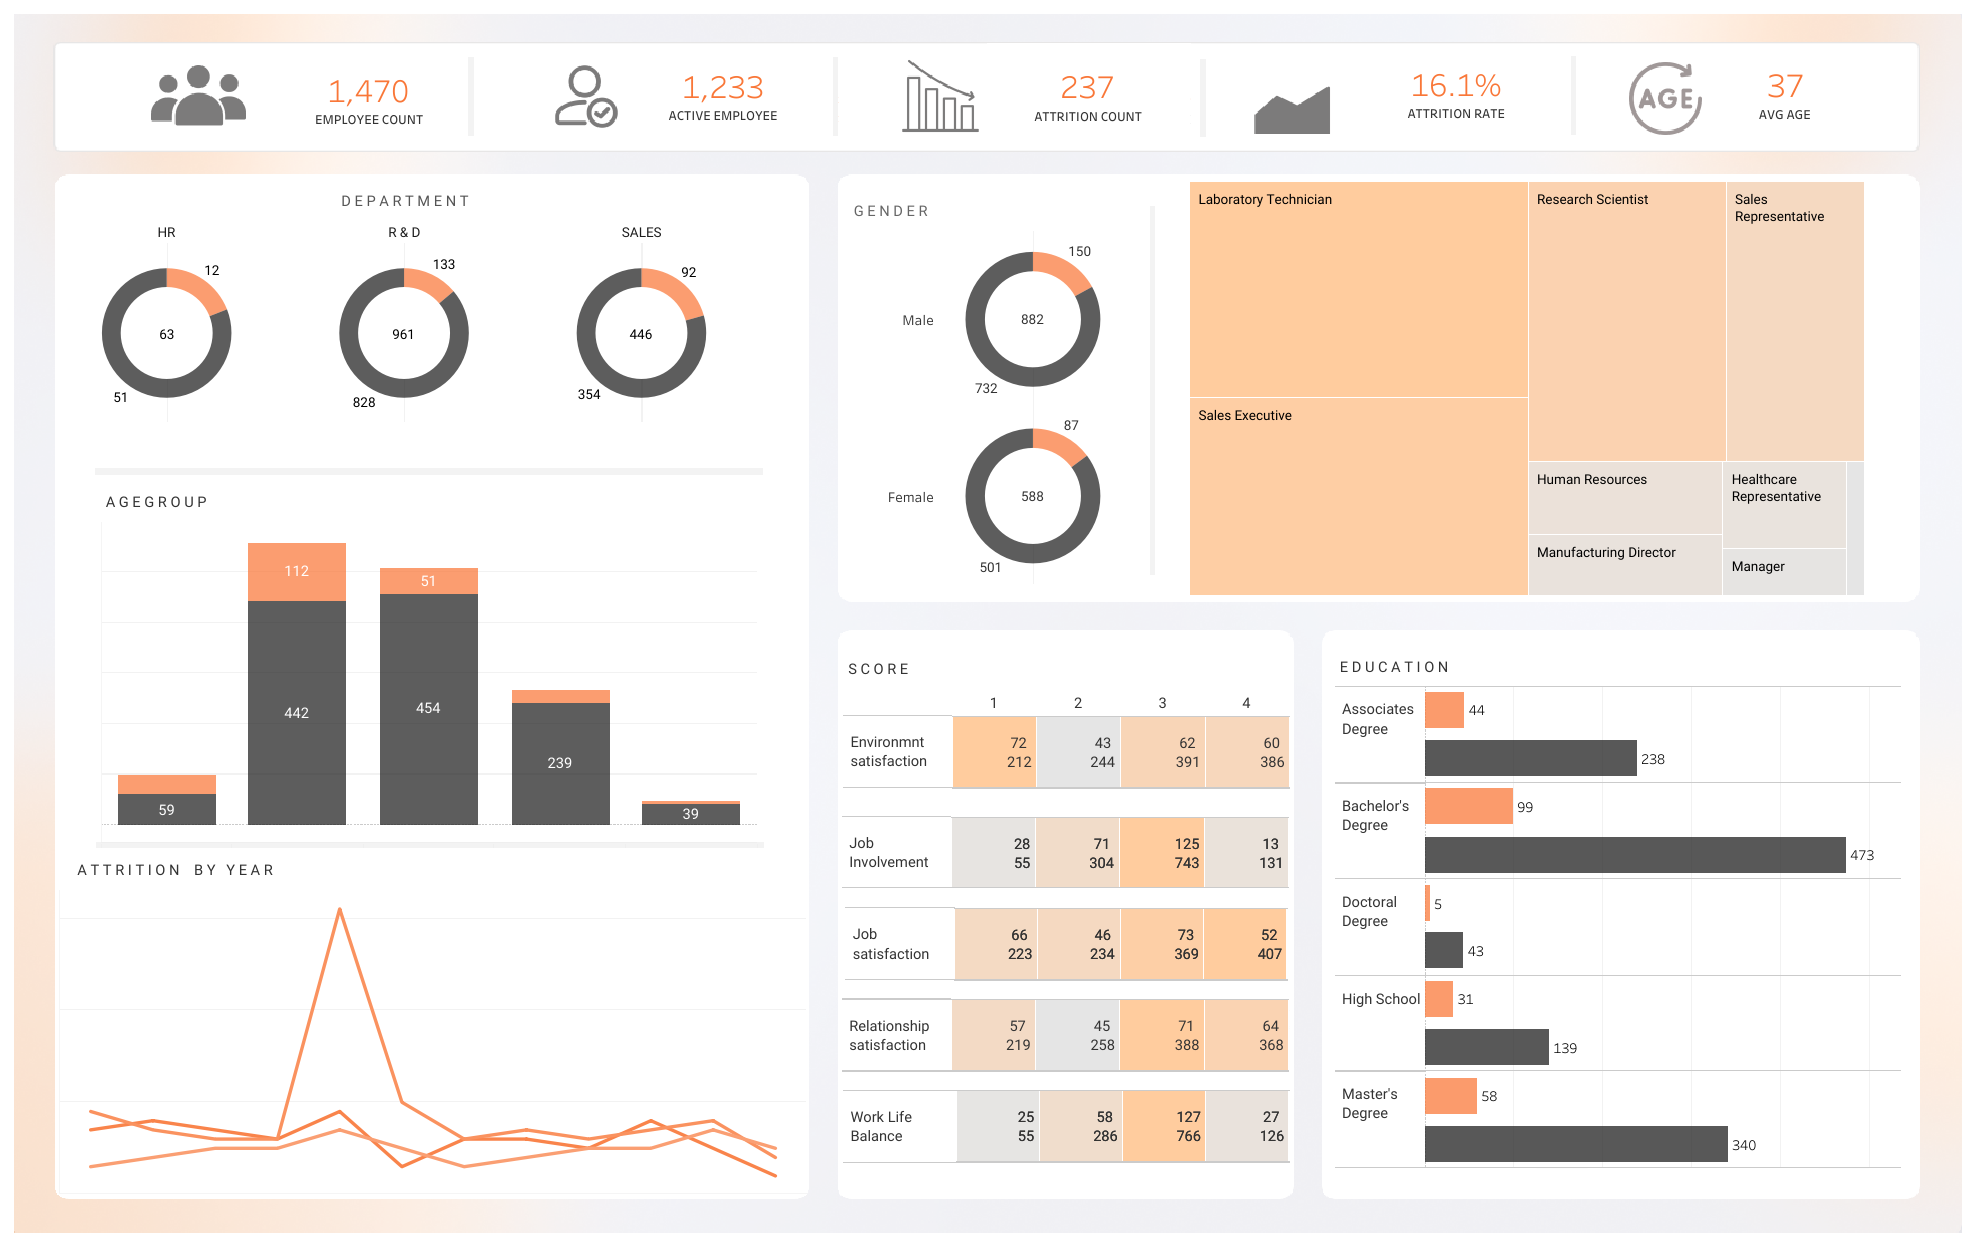

What the dashboard file says about the page in this screenshot:
{"tool":"tableau","page":{"name":"Dashboard 1","canvas":[1757,1118],"ordinal":0},"visuals":[{"type":"image","param":"Image/Dashboard 3.png","box":[8,8,1741,1102]},{"type":"worksheet","title":"Sheet 5","mark":"Automatic","box":[1484,23,206,118]},{"type":"worksheet","title":"Sheet 4","mark":"Automatic","box":[1175,30,240,103]},{"type":"blank","box":[1391,30,20,110]},{"type":"blank","box":[410.6,31,19.9,110]},{"type":"blank","box":[735,31,20,110]},{"type":"blank","box":[1062,32,20,110]},{"type":"worksheet","title":"Sheet 3","mark":"Automatic","box":[877,38,180,91]},{"type":"worksheet","title":"Sheet 2","mark":"Automatic","box":[541,40,203,87]},{"type":"worksheet","title":"Sheet 1","mark":"Automatic","box":[199,46,258,82]},{"type":"image","param":"Image/area.png","box":[1115,49,76,70]},{"type":"image","param":"Image/decrease.png","box":[801,50,85,70]},{"type":"image","param":"Image/active.png","box":[490.1,55,91.8,62]},{"type":"image","param":"Image/age.png","box":[1448,55,69,65]},{"type":"image","param":"Image/emp.png","box":[134.4,58,140,85]},{"type":"worksheet","title":"Sheet 9","mark":"Automatic","box":[1053,114,681,420]},{"type":"blank","box":[1017,163,20,368]},{"type":"worksheet","title":"Sheet 6 ","mark":"Pie","cols":["Department","Employee Count","Employee Count"],"box":[42.6,164,634.9,320]},{"type":"worksheet","title":"Sheet 7","mark":"Pie","rows":["Gender"],"cols":["Employee Count","Employee Count"],"box":[755,173,247,346]},{"type":"blank","box":[84,406,594,25]},{"type":"worksheet","title":"Sheet 8","mark":"Bar","rows":["Employee Count"],"cols":["Age group"],"box":[90,432,583,337]},{"type":"worksheet","title":"Sheet 17","mark":"Bar","rows":["Education Switch Calc","Attrition/Retention"],"cols":["Employee Count"],"box":[1187,578,504,461]},{"type":"worksheet","title":"Sheet 11","mark":"Square","rows":["Calculation_1157425145742860291"],"cols":["Environment Satisfaction"],"box":[750,580,507,271]},{"type":"worksheet","title":"Sheet 12","mark":"Square","rows":["Calculation_1205838842005045254"],"cols":["Job Involvement"],"box":[749,726,532,264]},{"type":"blank","box":[85,738,594,25]},{"type":"worksheet","title":"Sheet 10","mark":"Line","rows":["Attrition Count"],"cols":["Attrtion Year"],"box":[52,759,664,302]},{"type":"worksheet","title":"Sheet 12 (2)","mark":"Square","rows":["Calculation_1205838842006269959"],"cols":["Job Satisfaction"],"box":[752,807,506,184]}]}

Visuals, with their boxes in screenshot pixels (x1, y1, x2, y2), scaled from the page's 1757x1118 canvas onto the 1976x1257 screenshot:
image: <box>9,9,1967,1248</box>
"Sheet 5" worksheet: <box>1669,26,1901,159</box>
"Sheet 4" worksheet: <box>1321,34,1591,150</box>
blank: <box>1564,34,1587,157</box>
blank: <box>462,35,484,159</box>
blank: <box>827,35,849,159</box>
blank: <box>1194,36,1217,160</box>
"Sheet 3" worksheet: <box>986,43,1189,145</box>
"Sheet 2" worksheet: <box>608,45,837,143</box>
"Sheet 1" worksheet: <box>224,52,514,144</box>
image: <box>1254,55,1339,134</box>
image: <box>901,56,996,135</box>
image: <box>551,62,654,132</box>
image: <box>1628,62,1706,135</box>
image: <box>151,65,309,161</box>
"Sheet 9" worksheet: <box>1184,128,1950,600</box>
blank: <box>1144,183,1166,597</box>
"Sheet 6 " worksheet (Pie marks): <box>48,184,762,544</box>
"Sheet 7" worksheet (Pie marks): <box>849,195,1127,584</box>
blank: <box>94,456,763,485</box>
"Sheet 8" worksheet (Bar marks): <box>101,486,757,865</box>
"Sheet 17" worksheet (Bar marks): <box>1335,650,1902,1168</box>
"Sheet 11" worksheet (Square marks): <box>843,652,1414,957</box>
"Sheet 12" worksheet (Square marks): <box>842,816,1441,1113</box>
blank: <box>96,830,764,858</box>
"Sheet 10" worksheet (Line marks): <box>58,853,805,1193</box>
"Sheet 12 (2)" worksheet (Square marks): <box>846,907,1415,1114</box>
